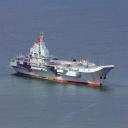Portanaves: (10, 30, 118, 90)
